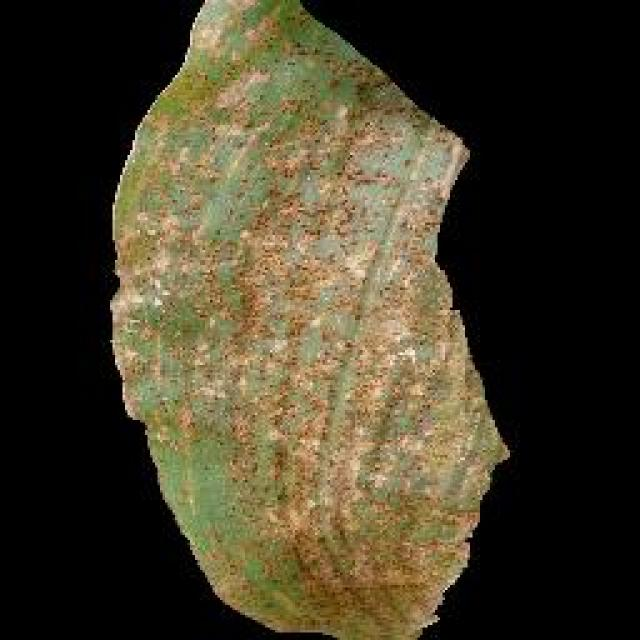Corn Common Rust: (137, 57, 440, 610)
